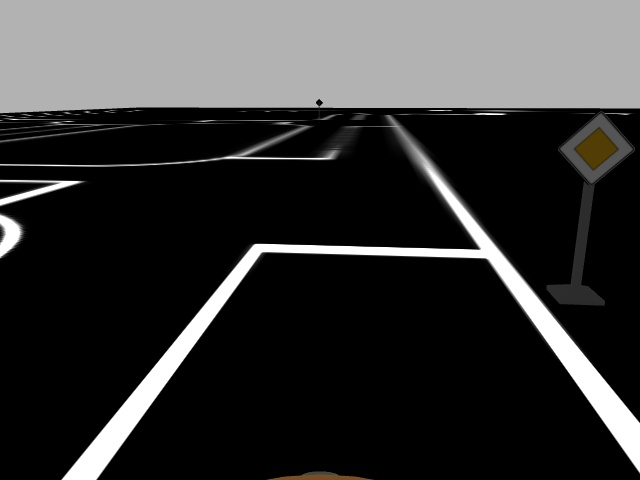priority: (557, 111, 634, 187)
